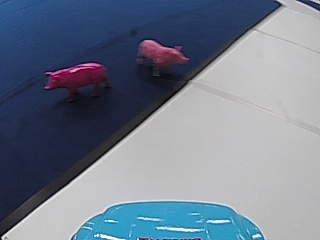pig: (39, 58, 111, 102), (136, 34, 189, 79)
